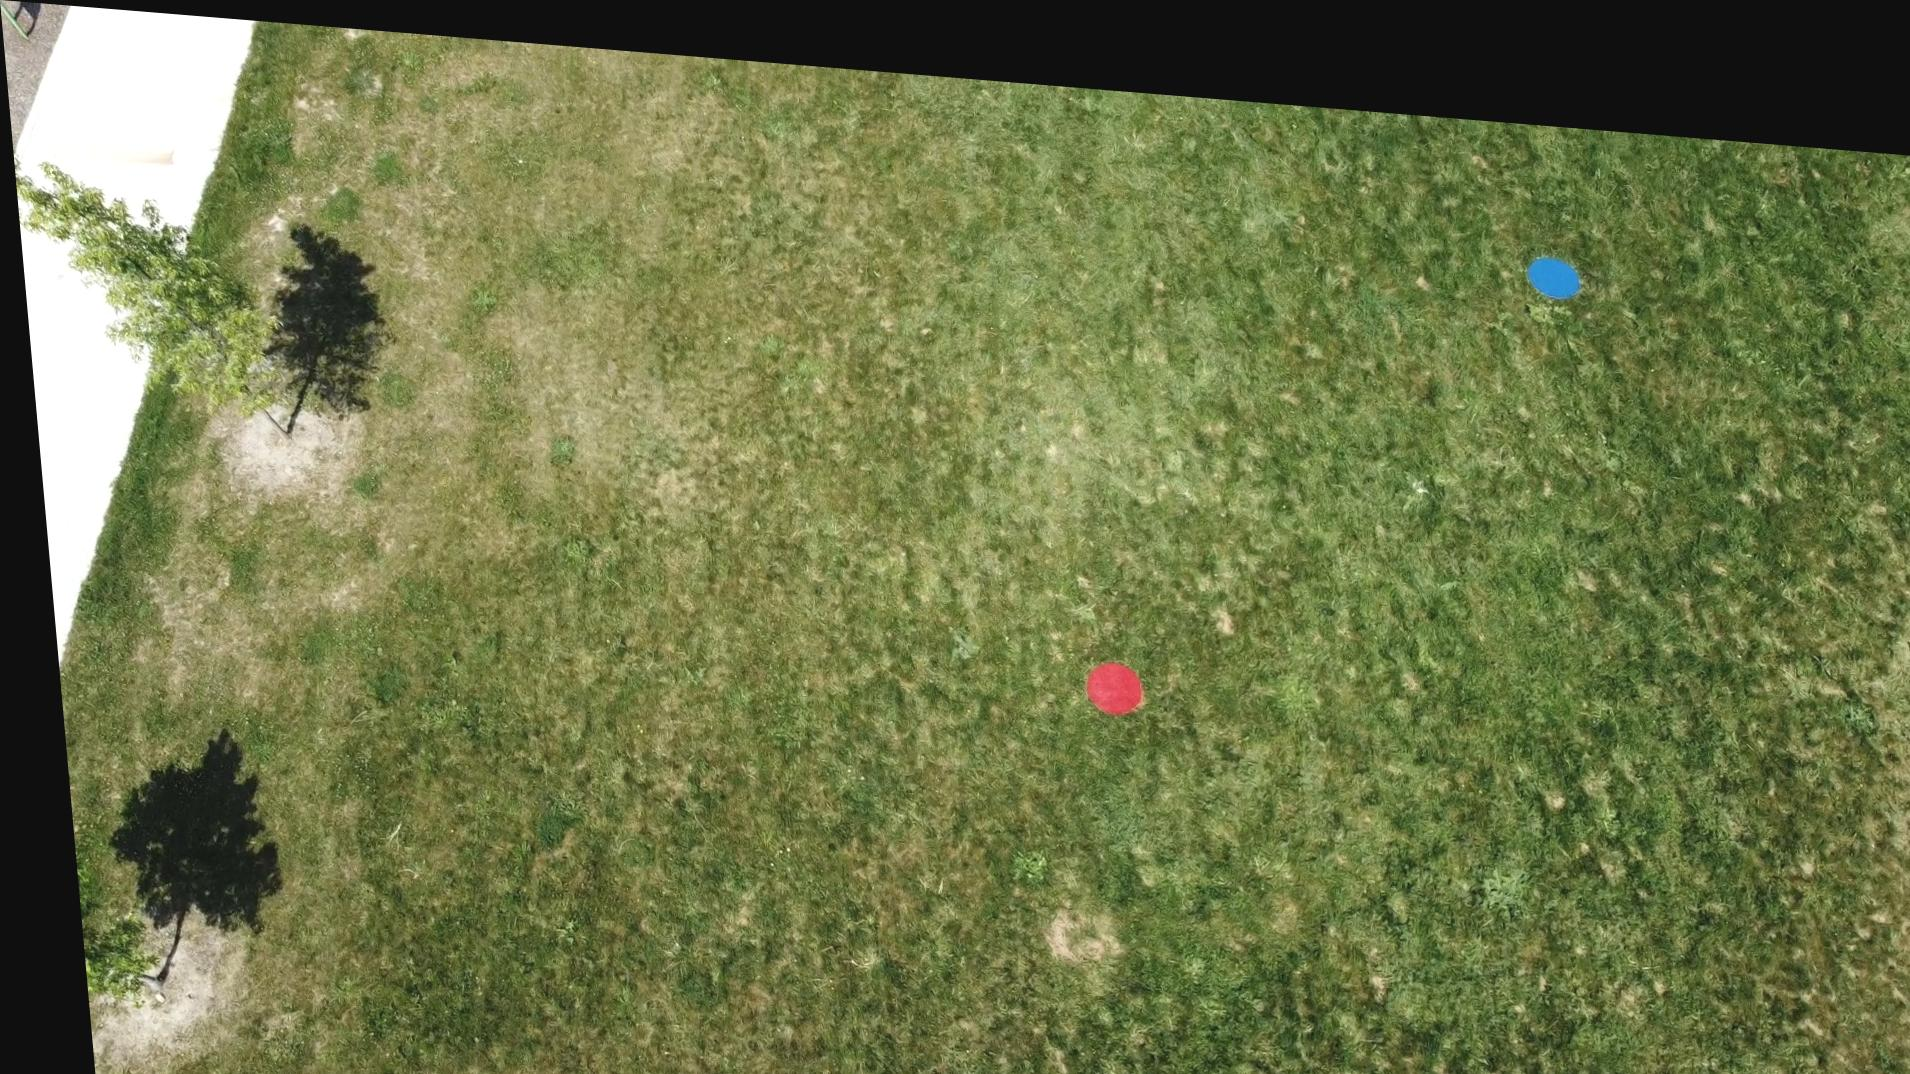Blue: (1520, 226, 1582, 274)
Red: (1072, 641, 1136, 702)
